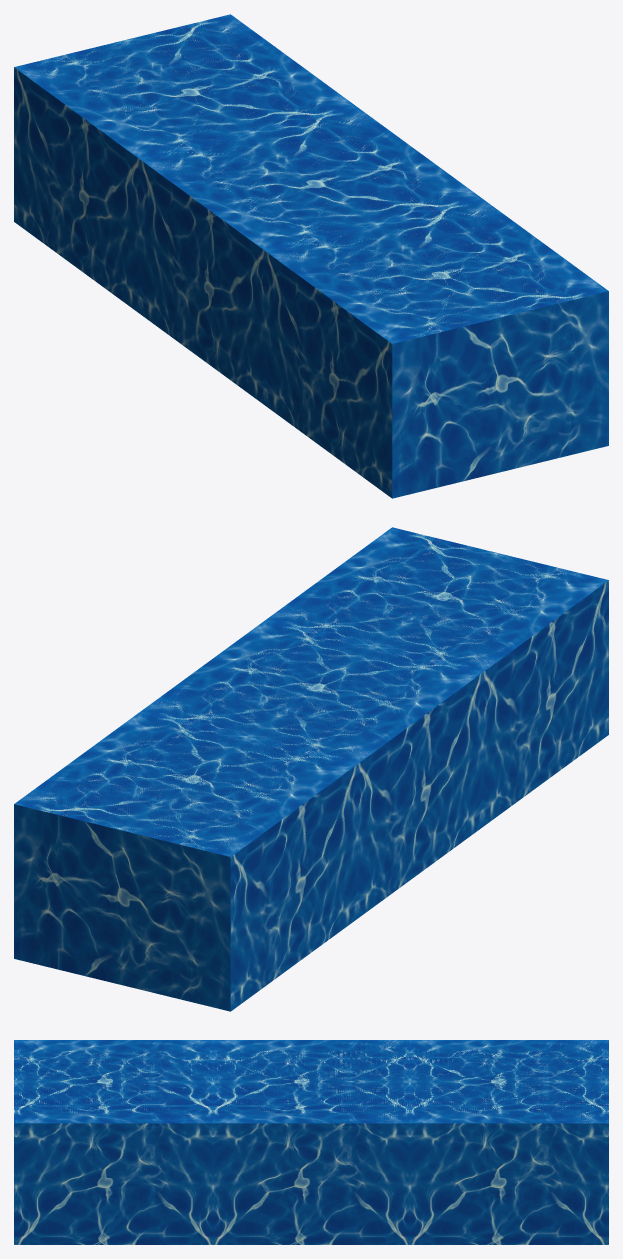
File: shui_sanhekou.obj
The picture shows the model from 3 angles, top to bottom: view 1: azimuth 30°, elevation 25°; view 2: azimuth 150°, elevation 25°; view 3: azimuth 270°, elevation 25°; orthographic projection. The views are drawn at different scales.
Size of the model in its own units: 4.38 by 2.98 by 13.23.
Materials: 1 (1 with a texture image).
